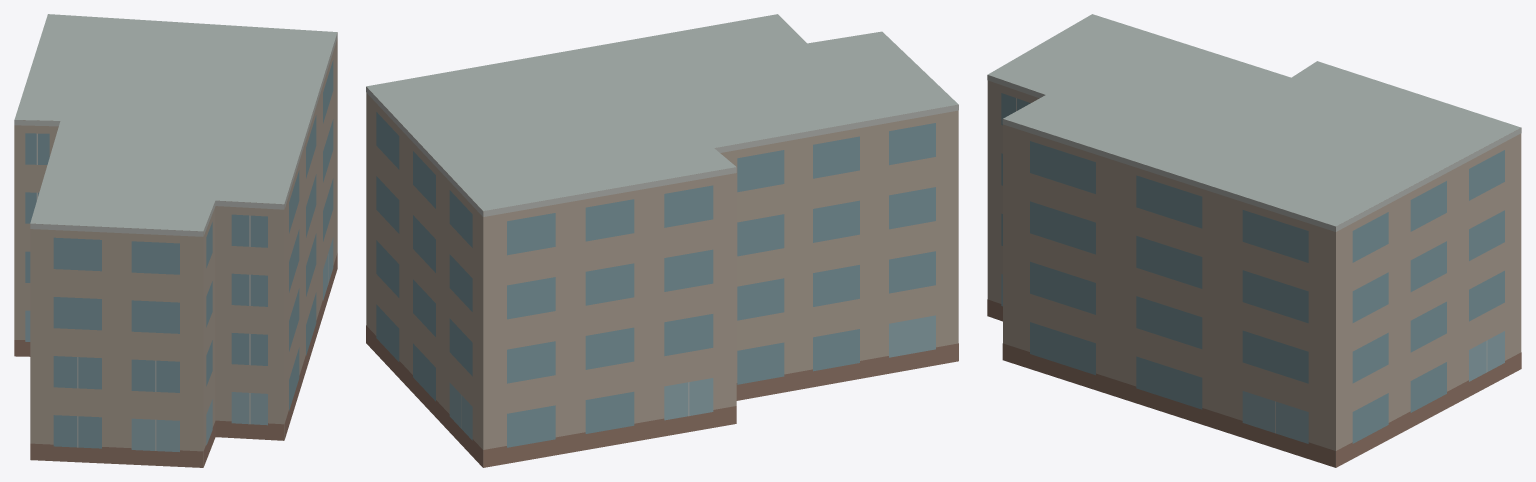
File: survey-upis-32845009.glb
3 renders of one model, left to right at view 1: azimuth 30°, elevation 25°; view 2: azimuth 150°, elevation 25°; view 3: azimuth 270°, elevation 25°, orthographic. The views are drawn at different scales.
Visible parts, largest first — view 1: survey-upis-32845009.tmp; view 2: survey-upis-32845009.tmp; view 3: survey-upis-32845009.tmp.
Part boxes in pixels (box(x1,y1,x2,y2)): survey-upis-32845009.tmp: box(14, 14, 337, 467); survey-upis-32845009.tmp: box(366, 14, 958, 467); survey-upis-32845009.tmp: box(987, 14, 1521, 467).
Bounding box in the file's own units: 19.93 × 10.55 × 21.16.
